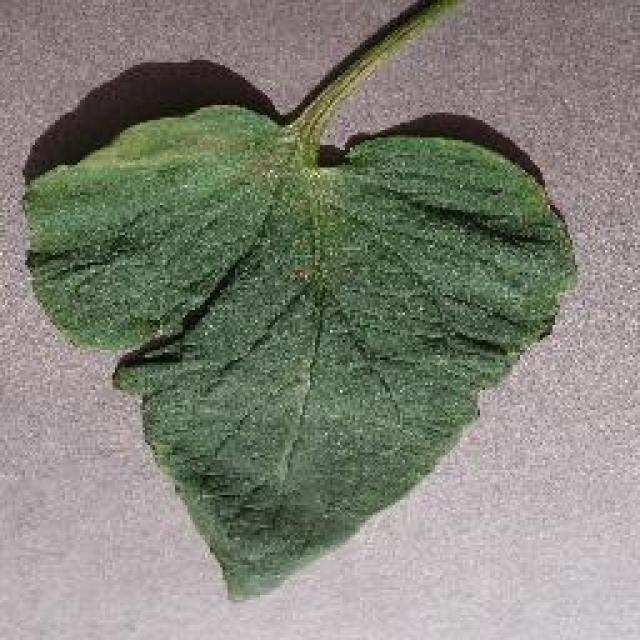Tomato___Target_Spot: (22, 0, 575, 595)
